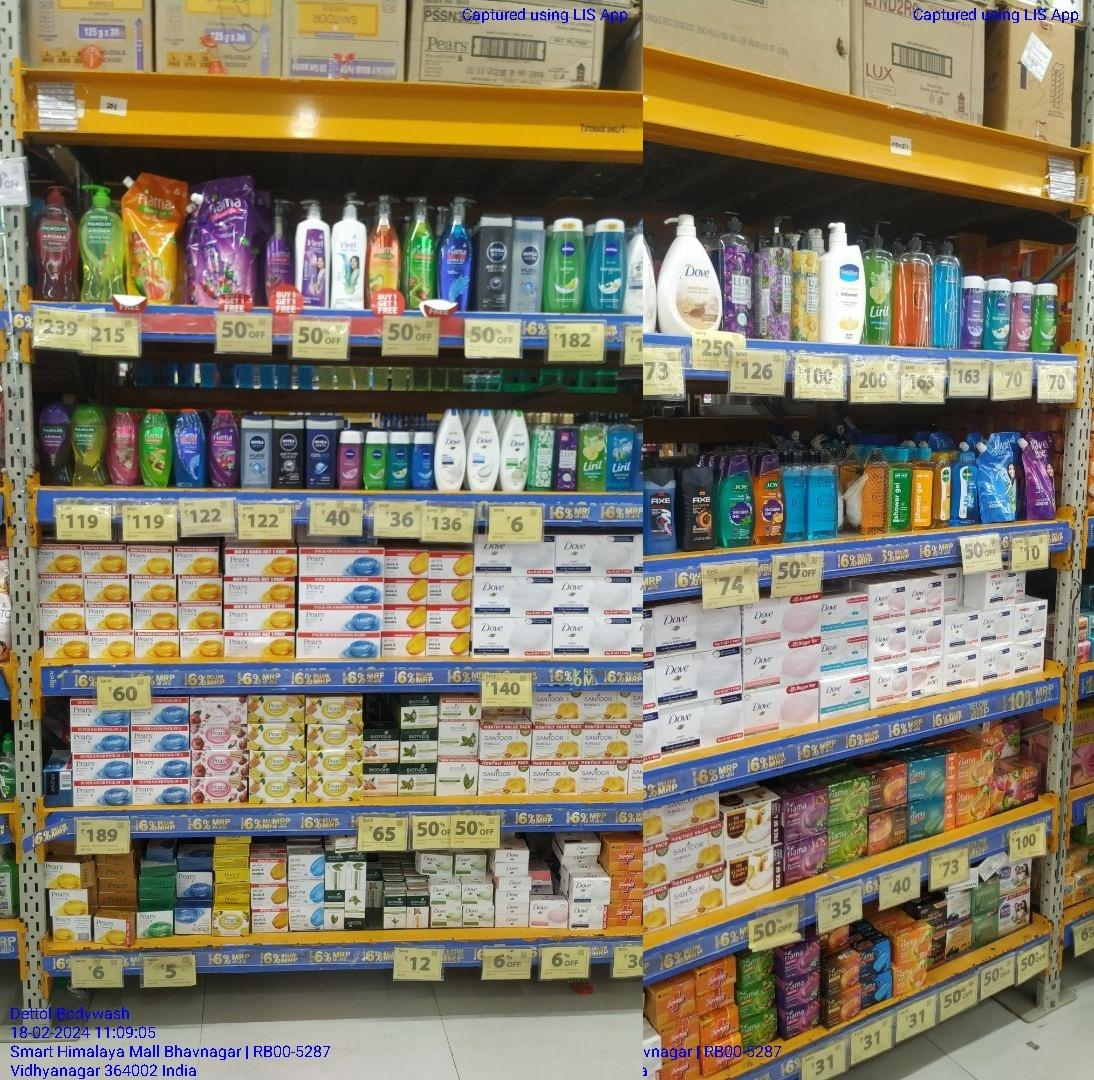Dettol_Bodywash_Cool: (956, 451, 979, 526)
Dettol_Bodywash_Refresh: (934, 454, 951, 531)
Dove_Deep_Moisture_Body_Wash_250ML: (432, 408, 466, 492)
Dove_Gentle_Exfoliating_Body_Wash_250ML: (468, 410, 499, 491)
Dove_Refreshing_Body_Wash_250ML: (500, 410, 530, 490)
Fiama_Shower_Gel_Lemongrass_and_Jojoba_250ML: (141, 406, 171, 489)
Fiama_Shower_Gel_Patchouli_and_Macadamia_250ML: (108, 403, 140, 488)
Joy_Shower_Gel_Mandarin_and_Lemongrass_250ML: (756, 456, 784, 543)
Joy_Shower_Gel_Mint_and_Eucalyptus_250ML: (719, 458, 755, 546)
Liril_Cooling_Mint_Body_Wash_250ML: (609, 411, 633, 490)
Liril_Lime_and_Tea_Tree_Oil_Body_Wash_250ML: (578, 412, 606, 490)
Lux_Black_Orchid_Scent_and_Juniper_Oil_Body_Wash_245ML: (553, 410, 576, 490)
Lux_Body_Wash_Skin_Detox_Freesia_Scent_and_Alove_Vera_245ML: (533, 410, 553, 490)
Nivea_Shower_Gel_Frangipani_and_Oil_250ML: (589, 221, 621, 309), (985, 279, 1010, 350)
Nivea_Shower_Gel_Fresh_Powerfruit_250ML: (960, 275, 983, 348)
Nivea_Shower_Gel_Lemon_and_Oil_250ML: (548, 218, 585, 308), (1033, 280, 1058, 353)
Nivea_Shower_Gel_Waterlily_and_Oil_250ML: (1011, 279, 1031, 354)
Palmolive_Aroma_Morning_Tonic_Shower_Gel_250ML: (74, 403, 104, 487)
Palmolive_Aroma_Relax_250ML: (40, 405, 71, 484)
Pears_Pure_Glycerin_and_Mint_Extracts_Body_Wash_250ML: (812, 450, 841, 543), (785, 449, 806, 542)
